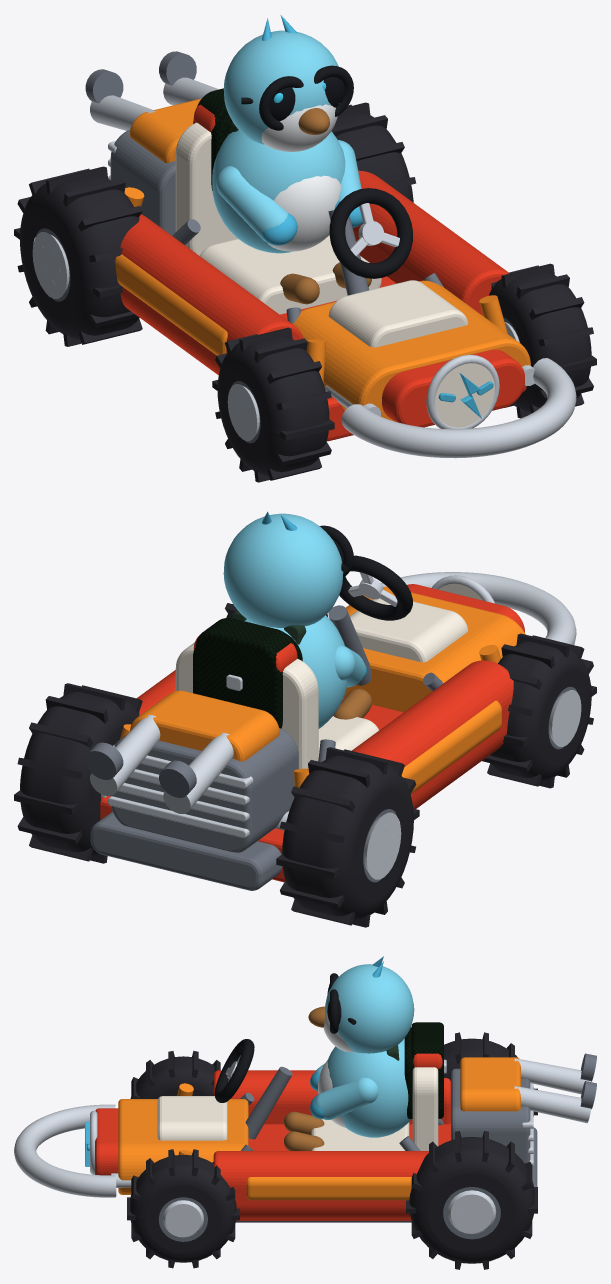
File: dashkart.glb
The picture shows the model from 3 angles, top to bottom: view 1: azimuth 30°, elevation 25°; view 2: azimuth 150°, elevation 25°; view 3: azimuth 270°, elevation 25°; orthographic projection. The views are drawn at different scales.
Visible parts, largest first — view 1: wheel_rear_left_tire, nose_panel, side_pod_left, wheel_front_left_tire, bumper_hoop, side_pod_right, head_dome, driver_body, wheel_front_right_tire, cowl_scoop, seat_base, seat_back (+26 smaller); view 2: wheel_rear_left_tire, head_dome, engine_block, wheel_rear_right_tire, side_pod_left, wheel_front_left_tire, nose_panel, rear_diffuser, engine_cover, backpack_body, cowl_scoop, seat_back (+23 smaller); view 3: wheel_rear_right_tire, side_pod_right, wheel_front_right_tire, head_dome, nose_panel, driver_body, bumper_hoop, side_stripe_right, engine_cover, cowl_scoop, engine_block, side_pod_left (+21 smaller).
Boxes of the visible parts, x1,y1,x2,y2 form: wheel_rear_left_tire: (20, 175, 139, 339); nose_panel: (293, 280, 530, 420); side_pod_left: (120, 214, 303, 375); wheel_front_left_tire: (217, 335, 329, 475); bumper_hoop: (341, 358, 576, 458); side_pod_right: (353, 170, 508, 315); head_dome: (223, 30, 338, 144); driver_body: (212, 130, 345, 253); wheel_front_right_tire: (489, 271, 591, 411); cowl_scoop: (328, 280, 468, 347); seat_base: (200, 235, 381, 314); seat_back: (175, 122, 237, 255); wheel_rear_left_tire: (282, 755, 413, 920); head_dome: (223, 513, 343, 627); engine_block: (110, 728, 298, 852); wheel_rear_right_tire: (20, 691, 139, 856); side_pod_left: (352, 660, 513, 820); wheel_front_left_tire: (490, 641, 591, 781); nose_panel: (343, 586, 525, 712); rear_diffuser: (90, 811, 282, 890); engine_cover: (130, 690, 279, 761); backpack_body: (193, 634, 302, 728); cowl_scoop: (350, 598, 468, 662); seat_back: (175, 642, 318, 768); wheel_rear_right_tire: (409, 1137, 534, 1263); side_pod_right: (213, 1151, 428, 1219); wheel_front_right_tire: (130, 1154, 236, 1262); head_dome: (325, 964, 414, 1053); nose_panel: (118, 1099, 248, 1194); driver_body: (327, 1038, 411, 1137); bumper_hoop: (14, 1104, 116, 1197); side_stripe_right: (246, 1177, 411, 1200); engine_cover: (460, 1057, 520, 1111); cowl_scoop: (157, 1096, 227, 1140); engine_block: (451, 1068, 530, 1163); side_pod_left: (213, 1070, 450, 1124).
Bounding box in the file's own units: 1.27 × 1.19 × 2.51.
15 materials, 1 textured.
